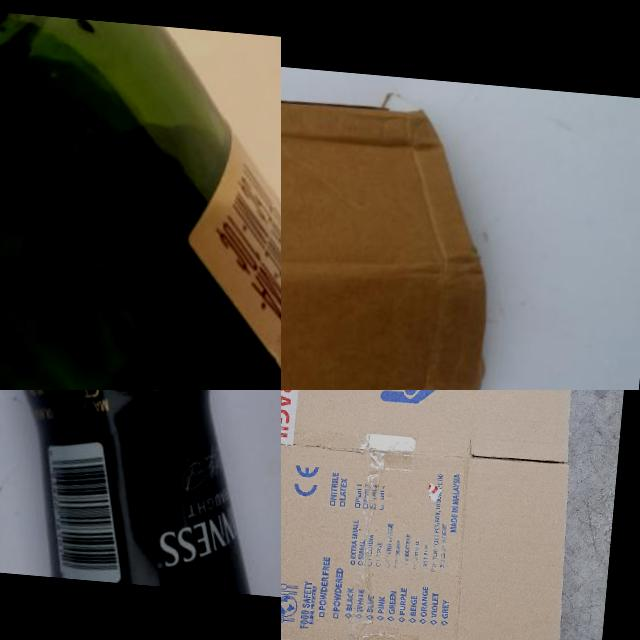garrafa de vidro: (0, 0, 281, 390), (0, 390, 281, 595)
papelão: (281, 390, 601, 640), (281, 78, 500, 390)
